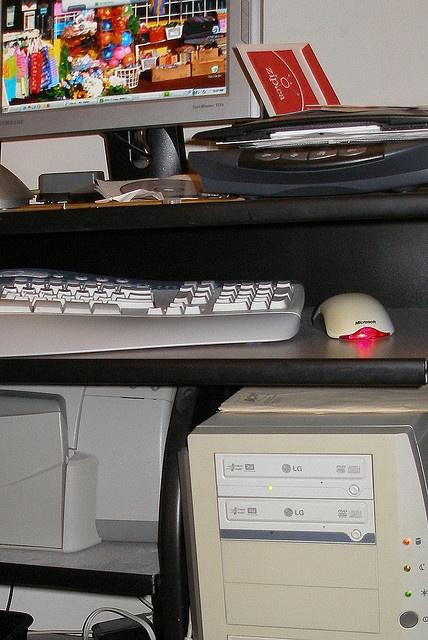AIO PC-Monitor-TV: (0, 0, 265, 140)
